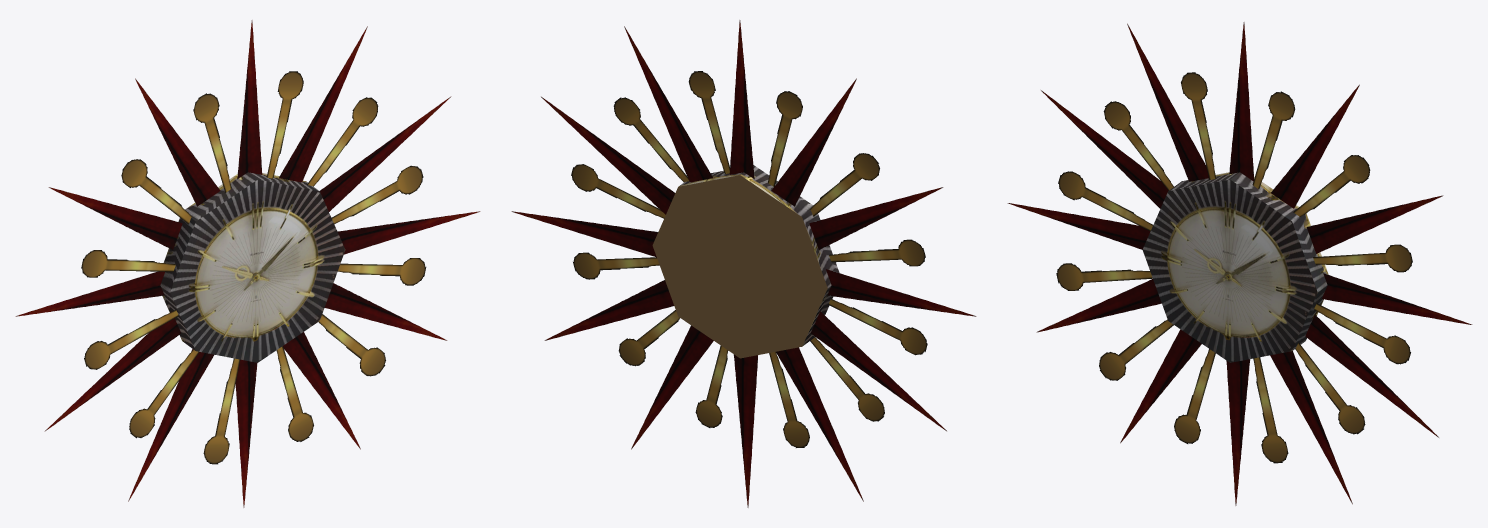
Rendered from clock.fbx.
3 views of the same model, side by side, from view 1: azimuth 30°, elevation 25°; view 2: azimuth 150°, elevation 25°; view 3: azimuth 330°, elevation 25° (orthographic).
Visible parts, largest first — view 1: clock; view 2: clock; view 3: clock.
Boxes of the visible parts, box(x1,y1,x2,y2) form: clock: box(15, 20, 480, 507); clock: box(511, 20, 976, 507); clock: box(1007, 22, 1472, 505).
Size of the model in its own units: 246 by 246 by 13.93.
Materials: 1 (1 with a texture image).
